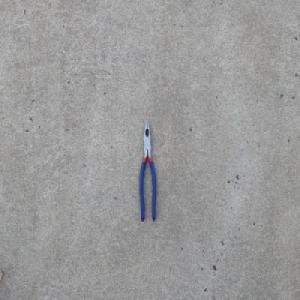Pliers: (139, 118, 156, 222)
